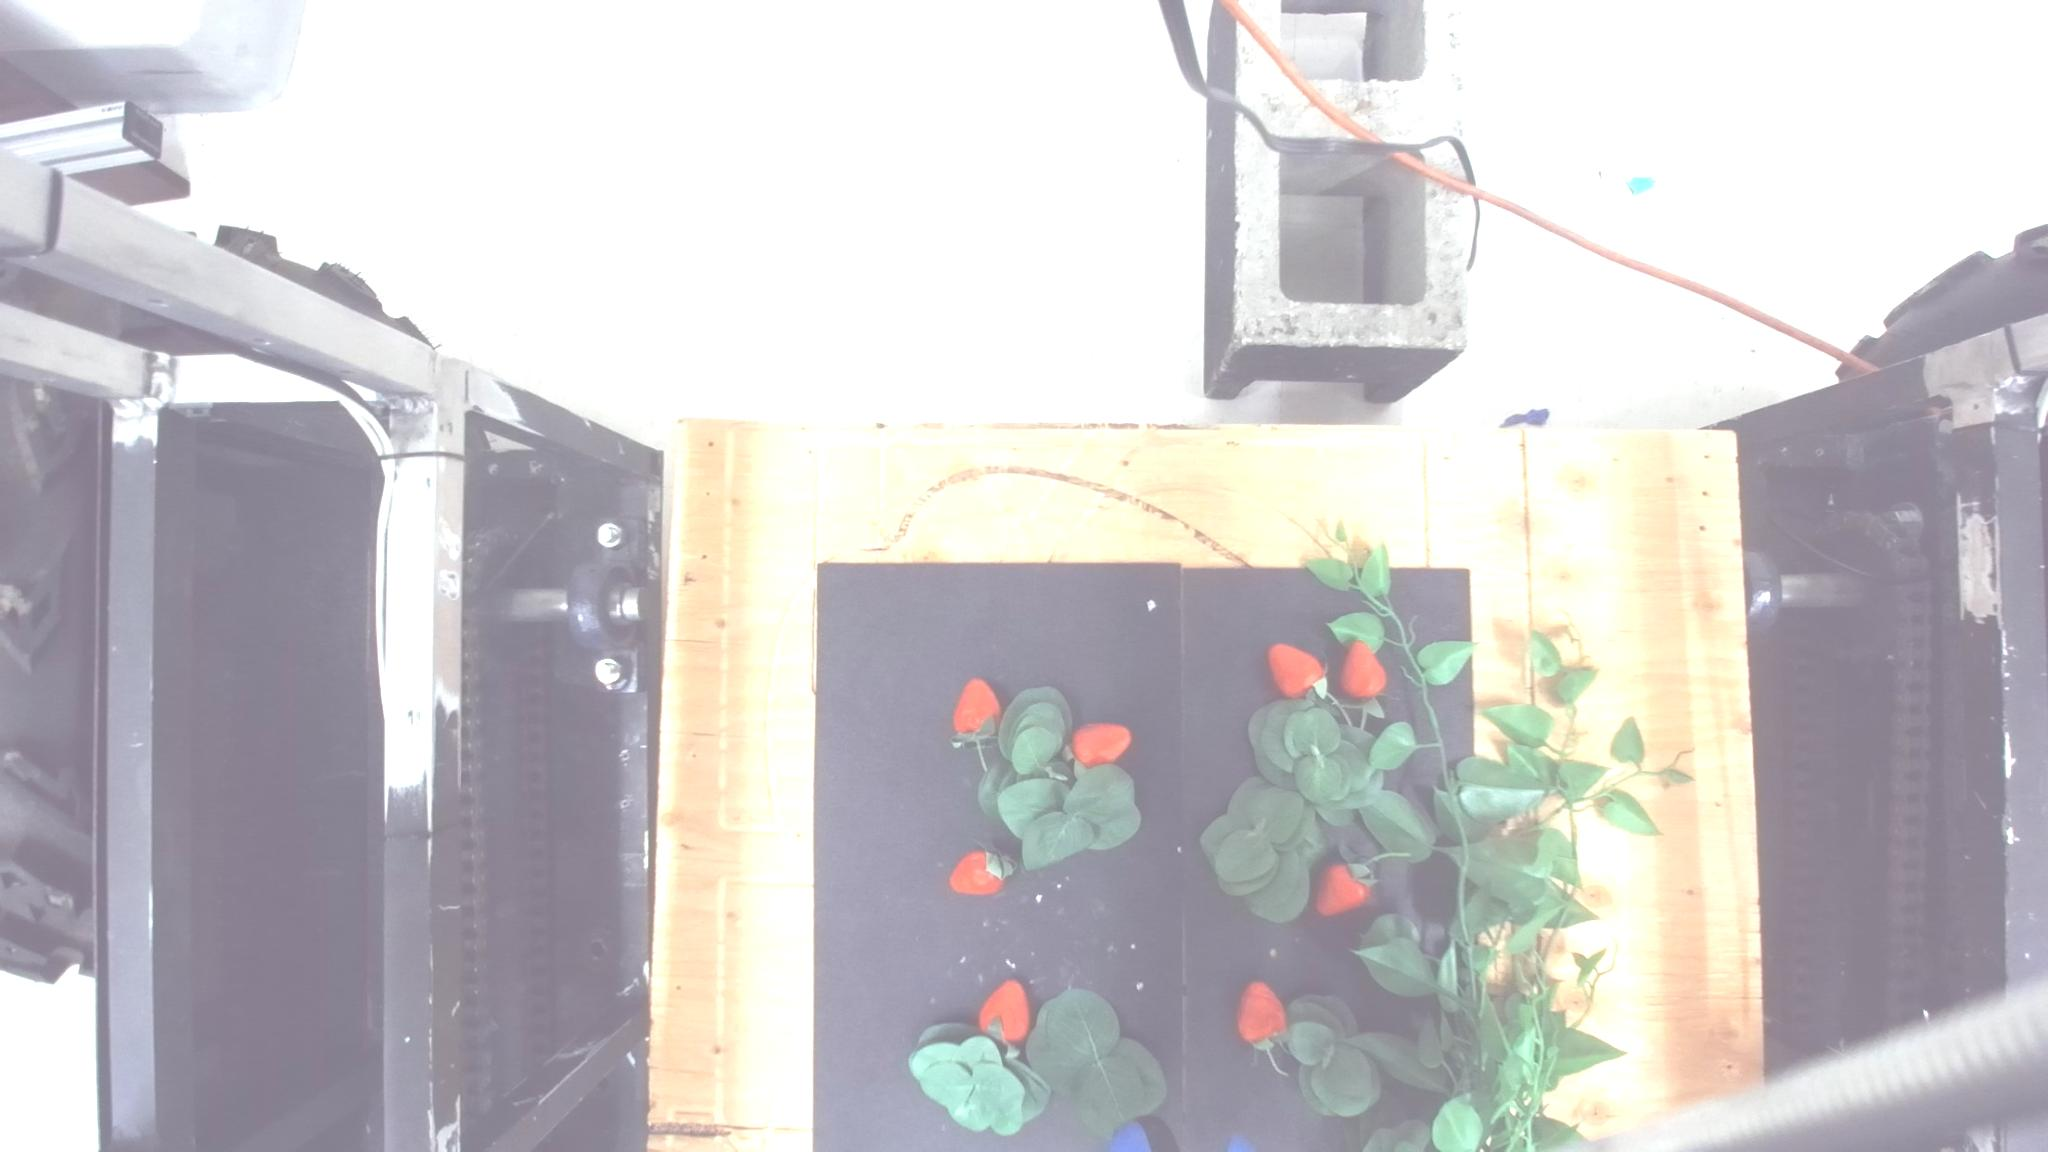strawberry: (1235, 979, 1288, 1051), (978, 979, 1031, 1044), (1265, 643, 1325, 699), (1312, 861, 1371, 917), (949, 848, 1014, 896), (951, 677, 1000, 737), (1069, 720, 1131, 768), (1339, 640, 1387, 700)
